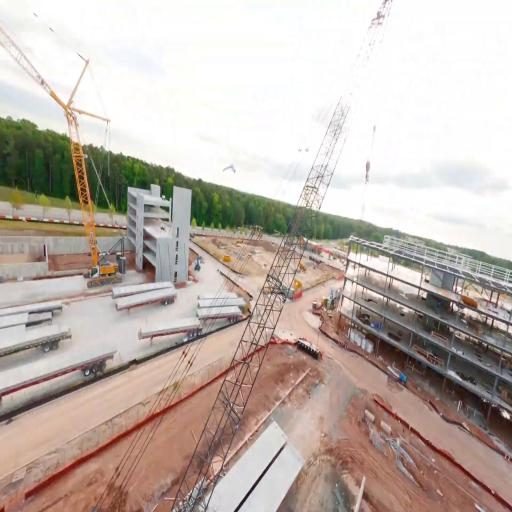uav: (221, 160, 238, 177)
